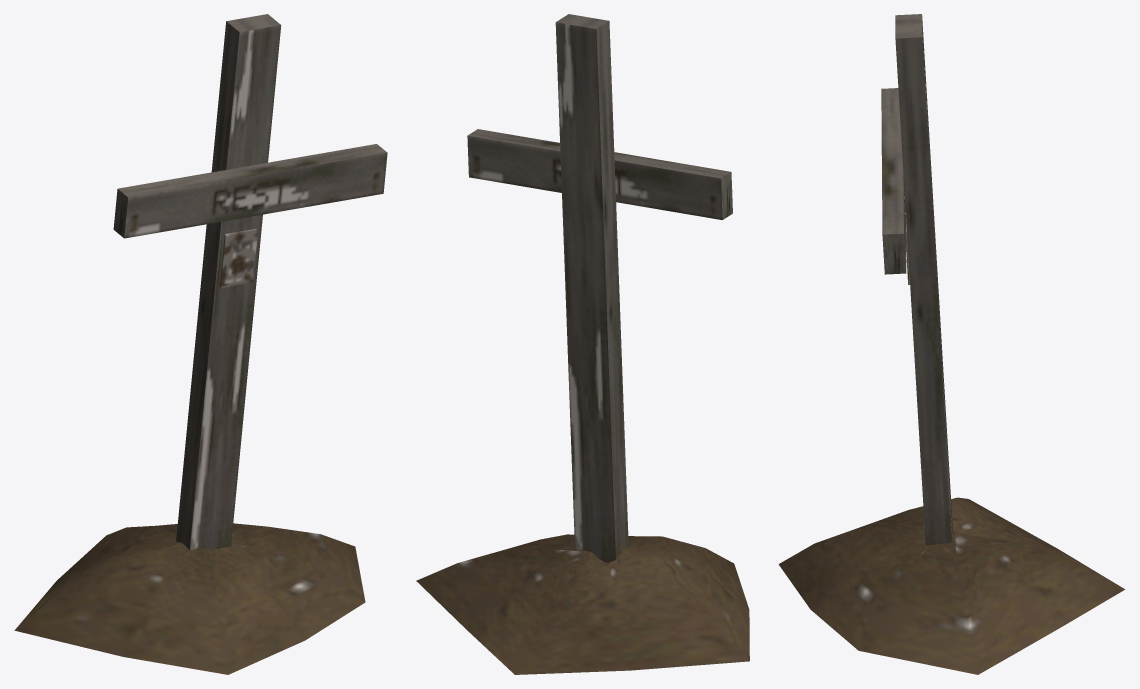
The model's file is cross_wooden.obj.
The picture shows the model from 3 angles, left to right: view 1: azimuth 30°, elevation 25°; view 2: azimuth 150°, elevation 25°; view 3: azimuth 270°, elevation 25°; orthographic projection. The views are drawn at different scales.
Visible parts, largest first — view 1: cross_wooden; view 2: cross_wooden; view 3: cross_wooden.
Boxes of the visible parts, bbox=[...] form: cross_wooden: bbox=[14, 14, 387, 674]; cross_wooden: bbox=[416, 14, 749, 674]; cross_wooden: bbox=[778, 14, 1124, 674].
Bounding box in the file's own units: 0.7347 × 1.2 × 0.6459.
Materials: 1 (1 with a texture image).
